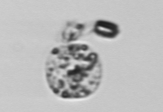plankton: (39, 18, 122, 101)
